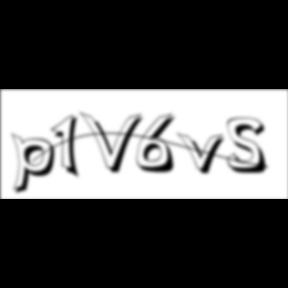1: (50, 114, 86, 182)
6: (138, 112, 182, 176)
S: (227, 117, 273, 176)
V: (80, 110, 148, 176)
p: (12, 132, 62, 198)
v: (177, 131, 231, 177)
